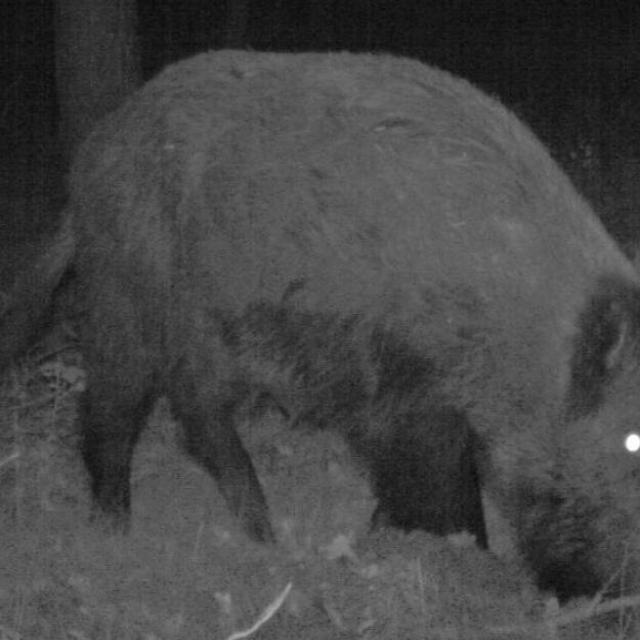pig: (60, 29, 640, 598)
